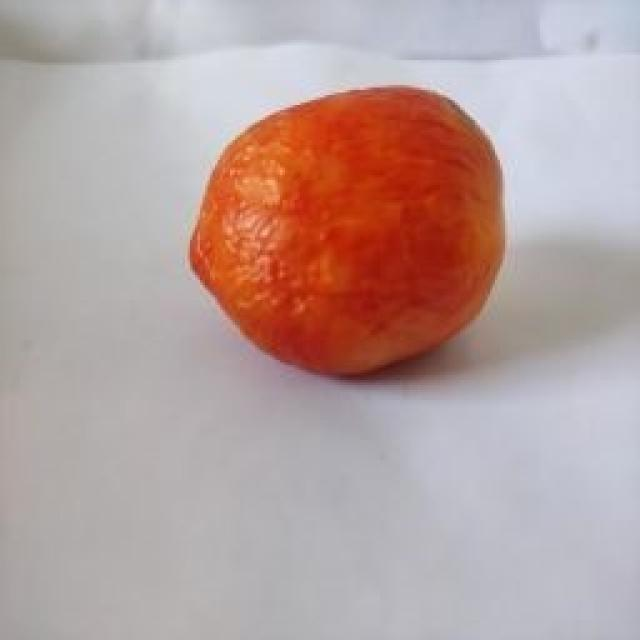overripe: (188, 82, 514, 380)
